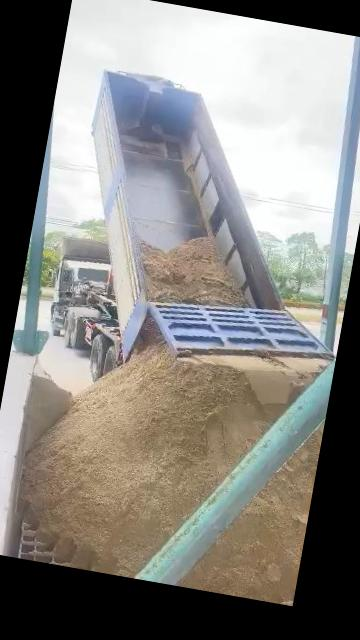sand: (22, 345, 283, 577), (182, 431, 323, 603), (189, 355, 325, 409), (141, 238, 247, 307), (26, 369, 72, 450), (138, 312, 162, 350)
